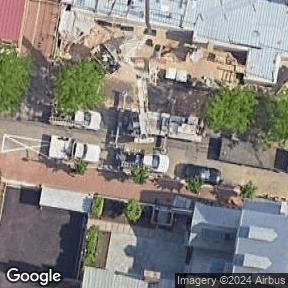vegetation: (55, 59, 104, 113), (205, 85, 257, 134), (0, 45, 32, 113), (84, 225, 99, 266), (121, 199, 145, 223), (238, 180, 257, 201), (129, 163, 148, 183), (186, 176, 202, 193), (72, 158, 88, 174), (93, 198, 104, 217)
